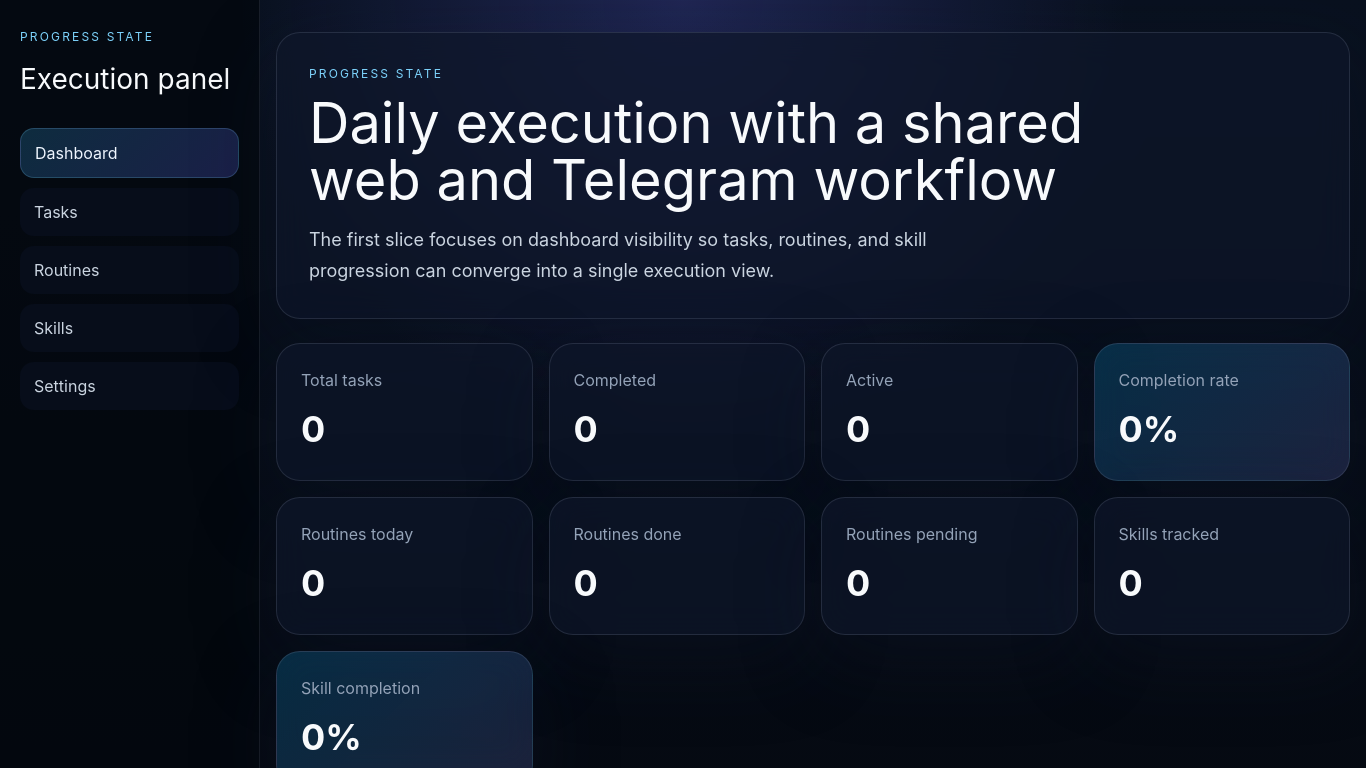
Test case: App › renders task workspace and allows editing UI flow
The width and height of the screenshot is (1366, 768).
What coordinates should you click on to do the following:
click the link "Tasks"
I would click on:
 (130, 212)
Its box is [20, 188, 239, 236].
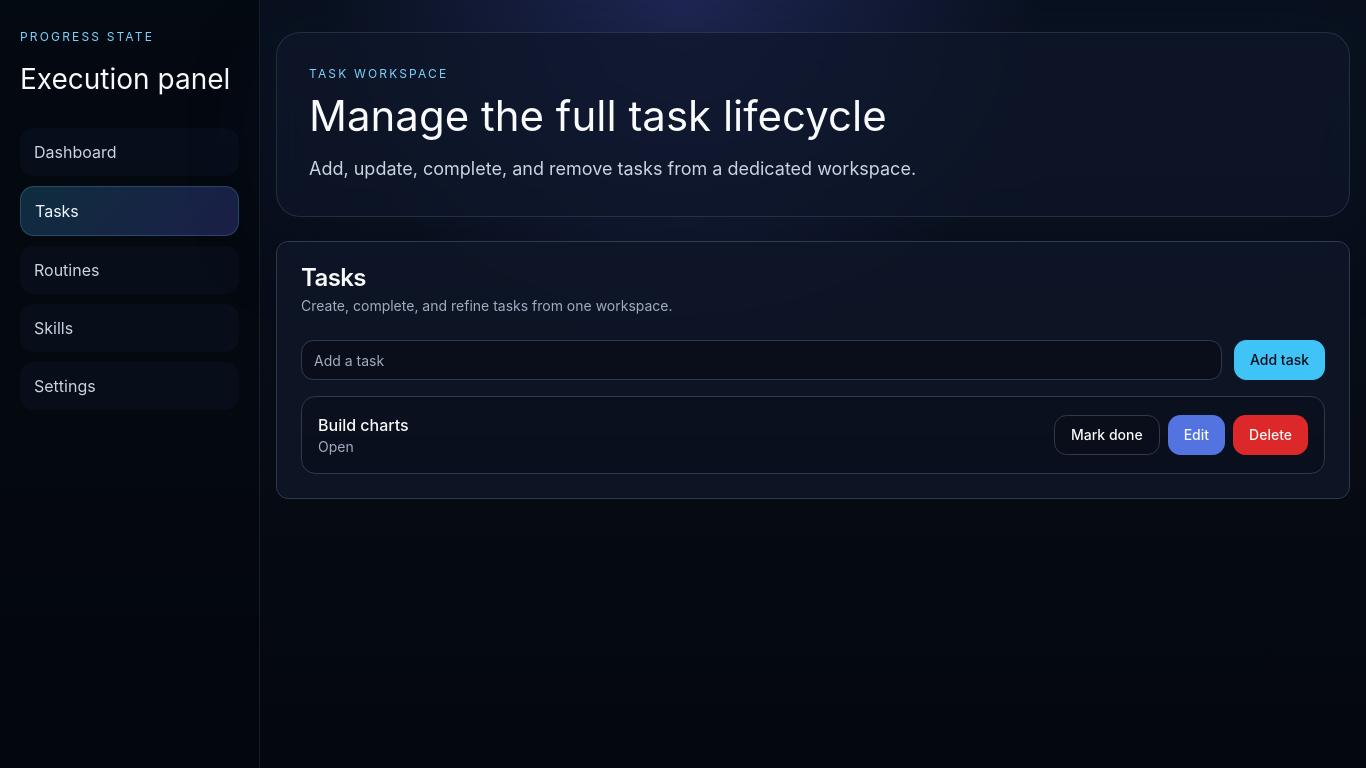
Now the heading "Manage the full task lifecycle" is shown, box [309, 90, 887, 141]
Now the text "Build charts" is shown, box [318, 415, 409, 435]
What coordinates should you click on to do the following:
click the button "Edit"
I would click on:
 (1196, 435)
Its box is [1168, 415, 1225, 455].
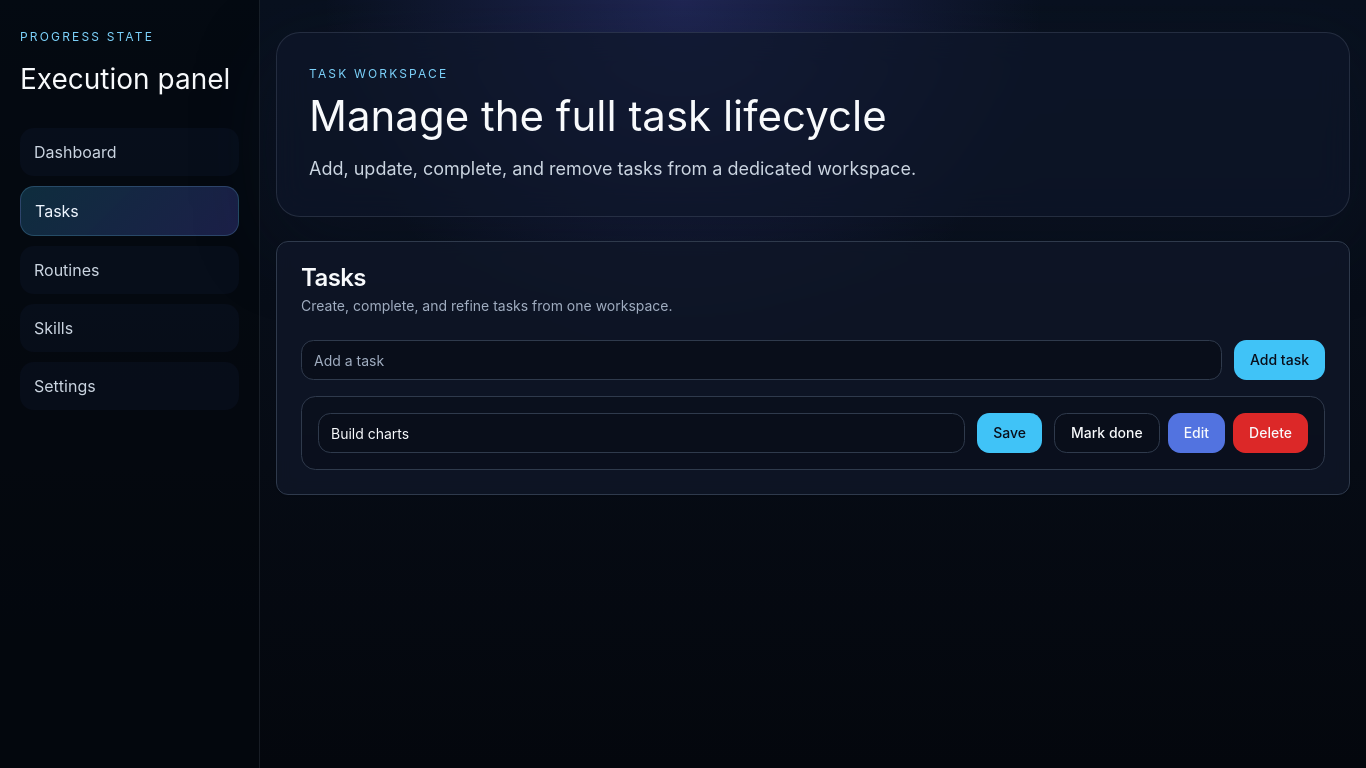
Now the button "Save" is shown, box [977, 413, 1042, 453]
